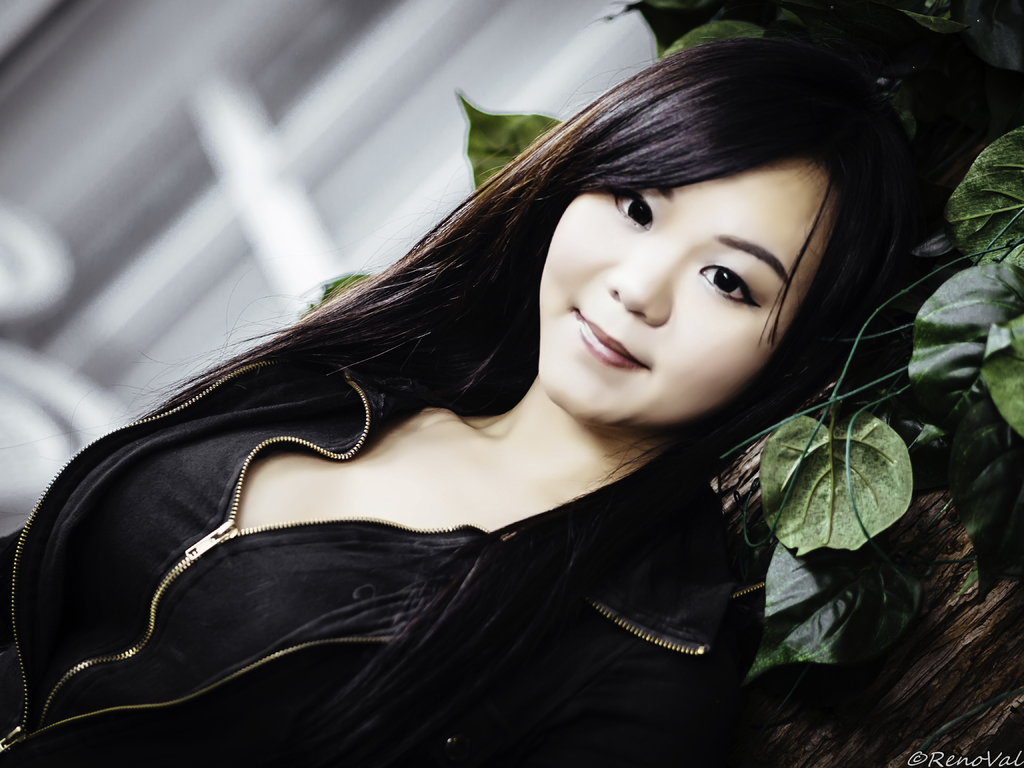face: (532, 81, 812, 436)
